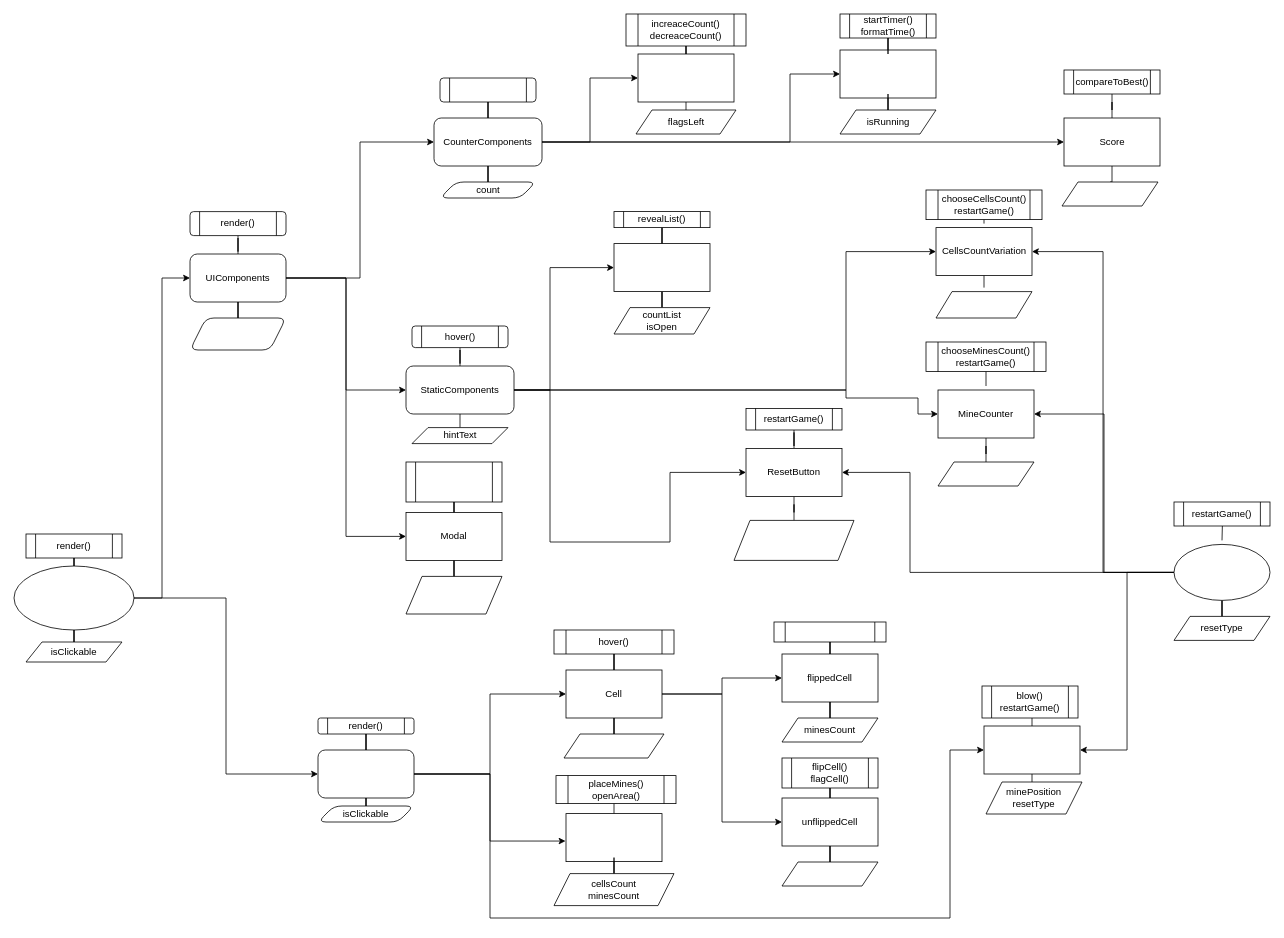
The diagram is 1284 pixels wide and 938 high, and some of its shapes have lost their labels. The centre of each missing label's shape, as x and y in pixels:
bestScore: point (1109, 193)
canBeFlipped: point (613, 745)
cellsCount resetType: point (983, 304)
CellsCountList: point (661, 267)
closeModal() openModal() restartGame(): point (453, 481)
ComponentsInterface: point (73, 597)
countMinesAround(): point (829, 631)
Field: point (613, 837)
FlagCounter: point (685, 77)
GameComponents: point (365, 773)
isClickable position: point (237, 333)
isSafe: point (829, 873)
Mine: point (1031, 749)
minesCount resetType: point (985, 473)
requireConfirmation resetType: point (793, 540)
resetCounter(): point (487, 89)
ResetInterface: point (1221, 572)
Timer: point (887, 73)
title text isOpen: point (453, 595)
